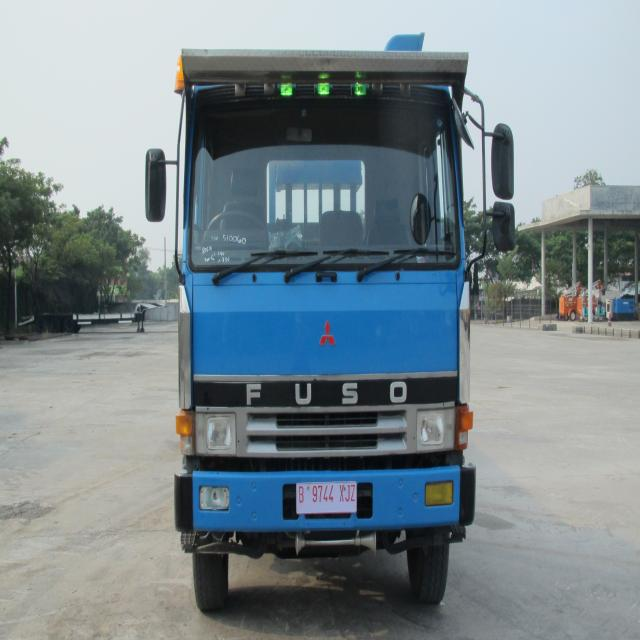truck: (140, 44, 515, 620)
